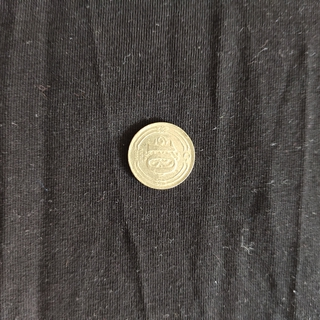10KURUS: (125, 119, 196, 190)
